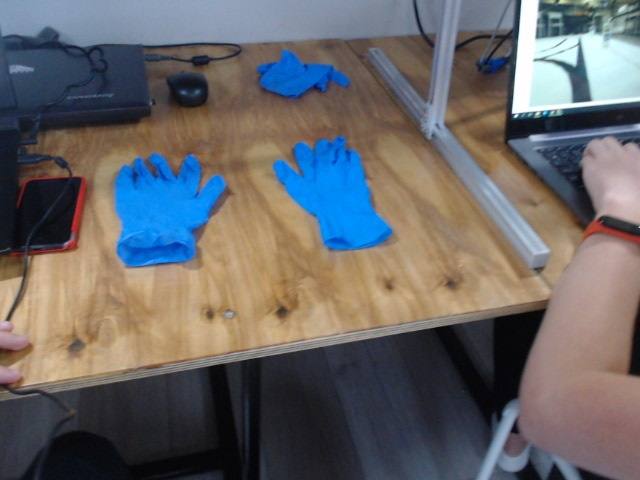medical_glove: (275, 136, 393, 249), (115, 154, 226, 268)
